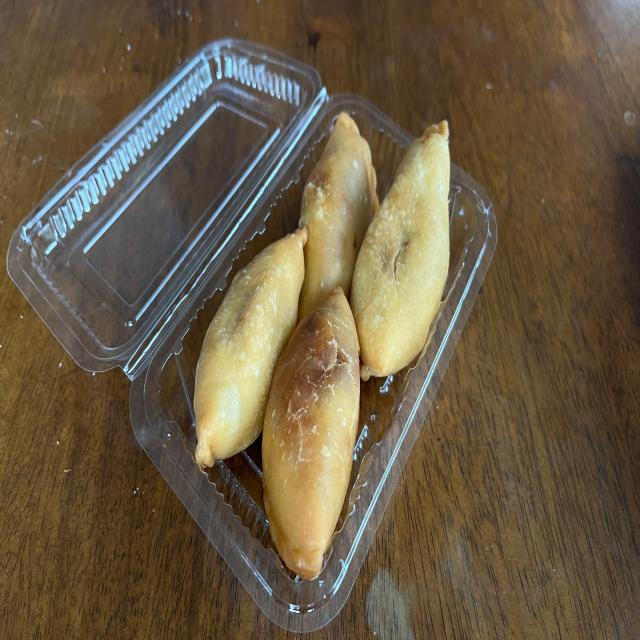karipap: (262, 287, 360, 580), (194, 227, 308, 467), (350, 120, 450, 380), (298, 111, 379, 322)
